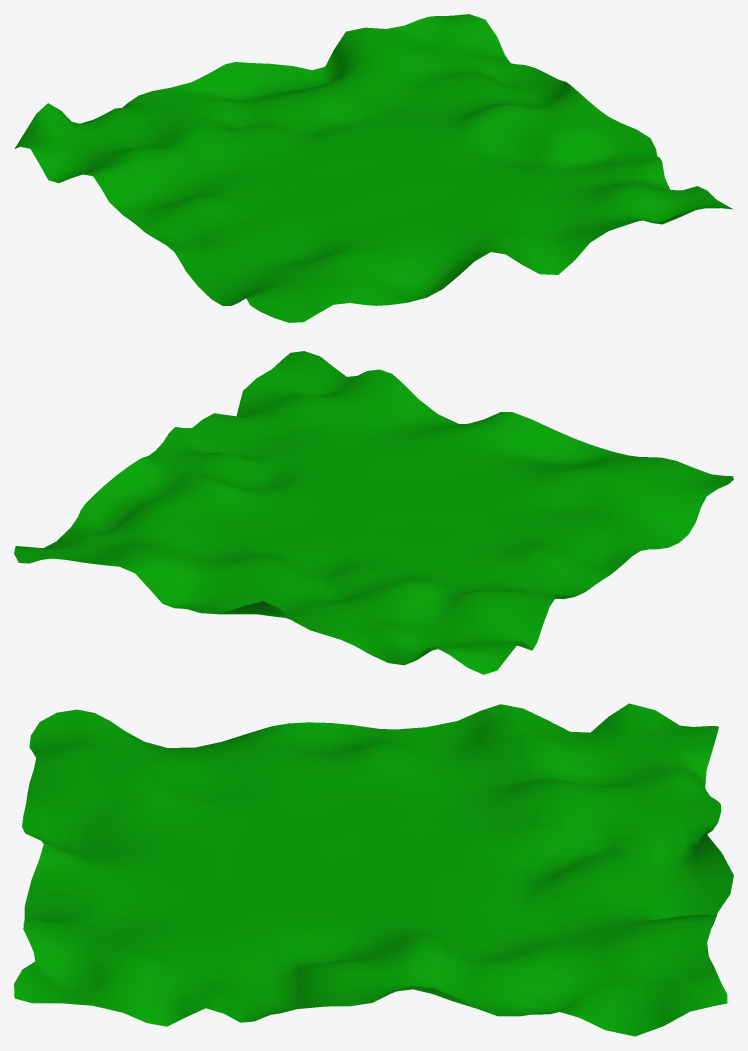
The model's file is land.fbx.
3 renders of one model, top to bottom at view 1: azimuth 30°, elevation 25°; view 2: azimuth 150°, elevation 25°; view 3: azimuth 270°, elevation 25°, orthographic. The views are drawn at different scales.
Parts seen in each view (by area): view 1: Plane; view 2: Plane; view 3: Plane.
Part boxes in pixels (bbox=[...]): Plane: bbox=[14, 14, 733, 322]; Plane: bbox=[14, 351, 733, 674]; Plane: bbox=[14, 703, 733, 1036].
Bounding box in the file's own units: 34690 × 2581 × 34697.
